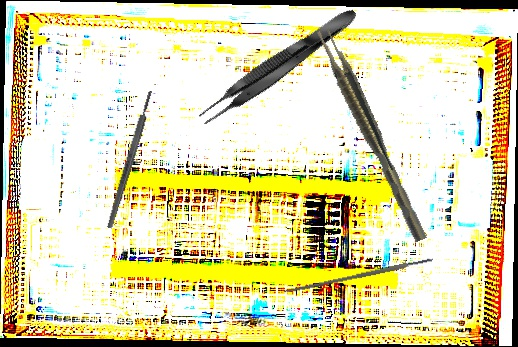Scalpel Handle: (105, 89, 155, 230), (283, 257, 435, 295)
Tissue Forceps: (314, 25, 428, 246), (194, 1, 363, 132)
